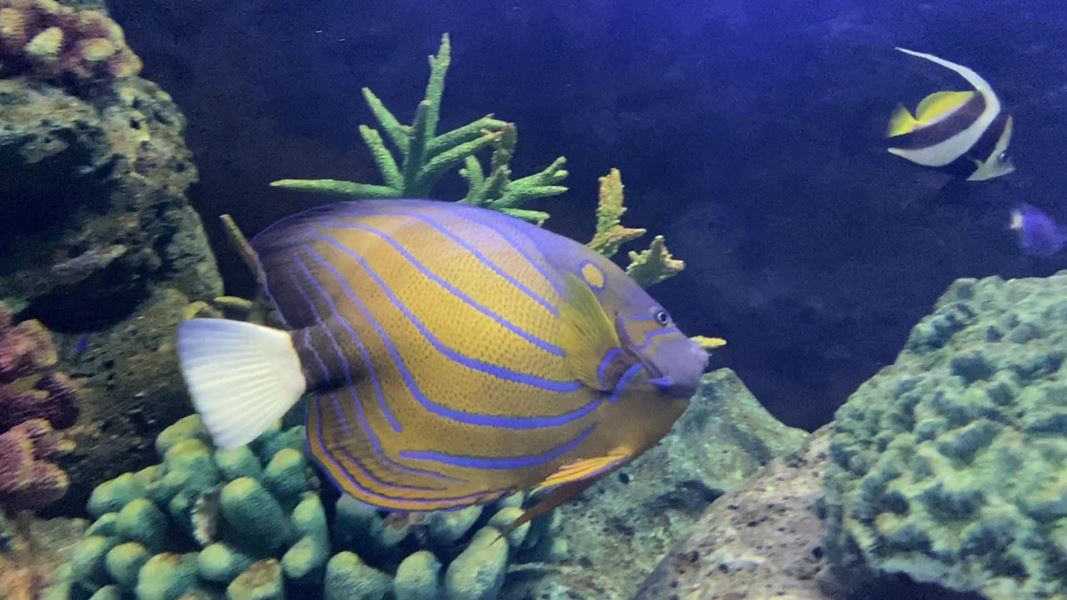Blue ring angelfish: (169, 185, 730, 573)
